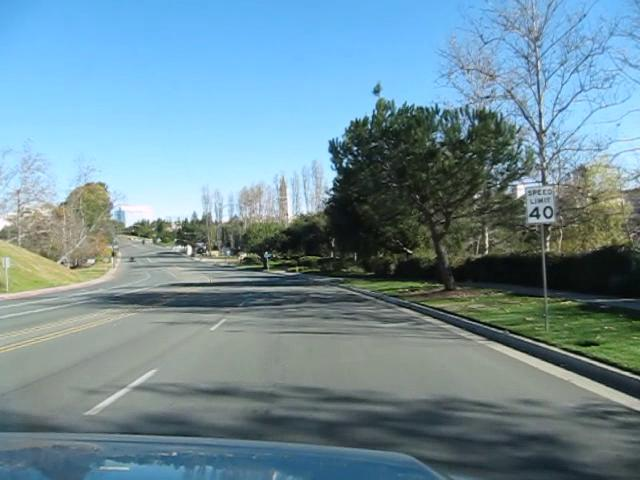speedLimit40: (524, 184, 557, 224)
